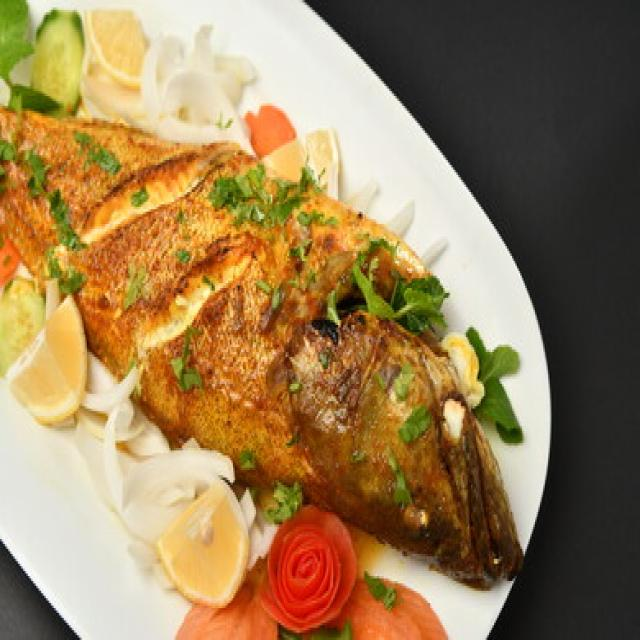Peixe: (0, 91, 525, 591)
